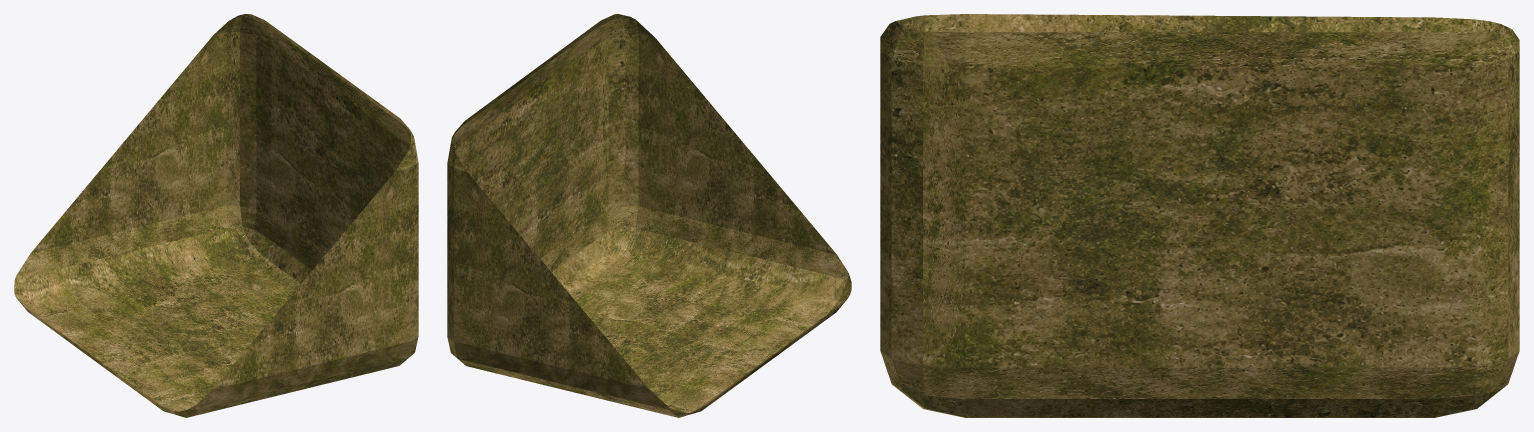
The model's file is BriquePierreCoupeBisectVerte.glb.
The picture shows the model from 3 angles, left to right: view 1: azimuth 30°, elevation 25°; view 2: azimuth 150°, elevation 25°; view 3: azimuth 270°, elevation 25°; orthographic projection. The views are drawn at different scales.
Parts seen in each view (by area): view 1: BriquePierreCoupe.001; view 2: BriquePierreCoupe.001; view 3: BriquePierreCoupe.001.
Boxes of the visible parts, x1=… form: BriquePierreCoupe.001: x1=14, y1=14, x2=418, y2=417; BriquePierreCoupe.001: x1=447, y1=14, x2=851, y2=417; BriquePierreCoupe.001: x1=880, y1=14, x2=1519, y2=417.
Bounding box in the file's own units: 4.08 × 3.79 × 5.29.
1 material, 1 textured.
